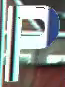Parking: (6, 0, 63, 86)
